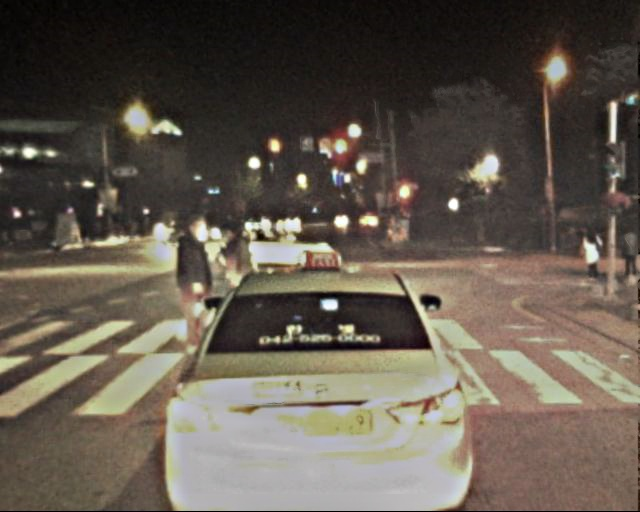person: (158, 213, 221, 366), (212, 225, 253, 326), (580, 226, 604, 285), (618, 225, 640, 282)
